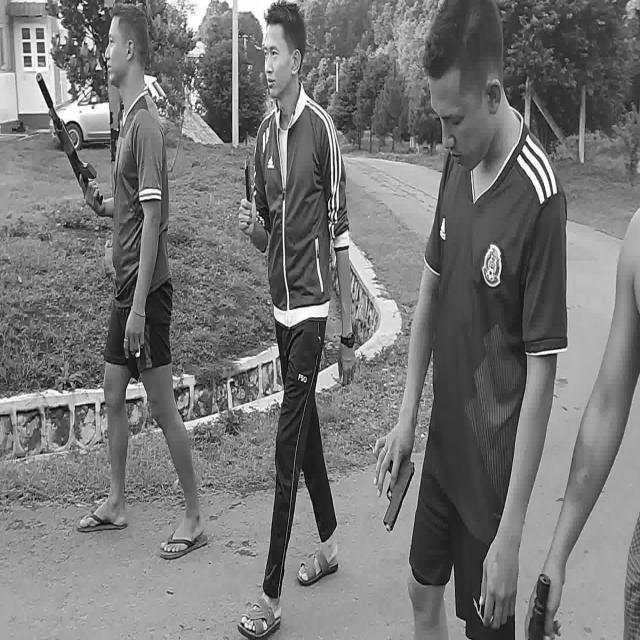gun: (36, 73, 104, 203), (384, 462, 416, 528)
